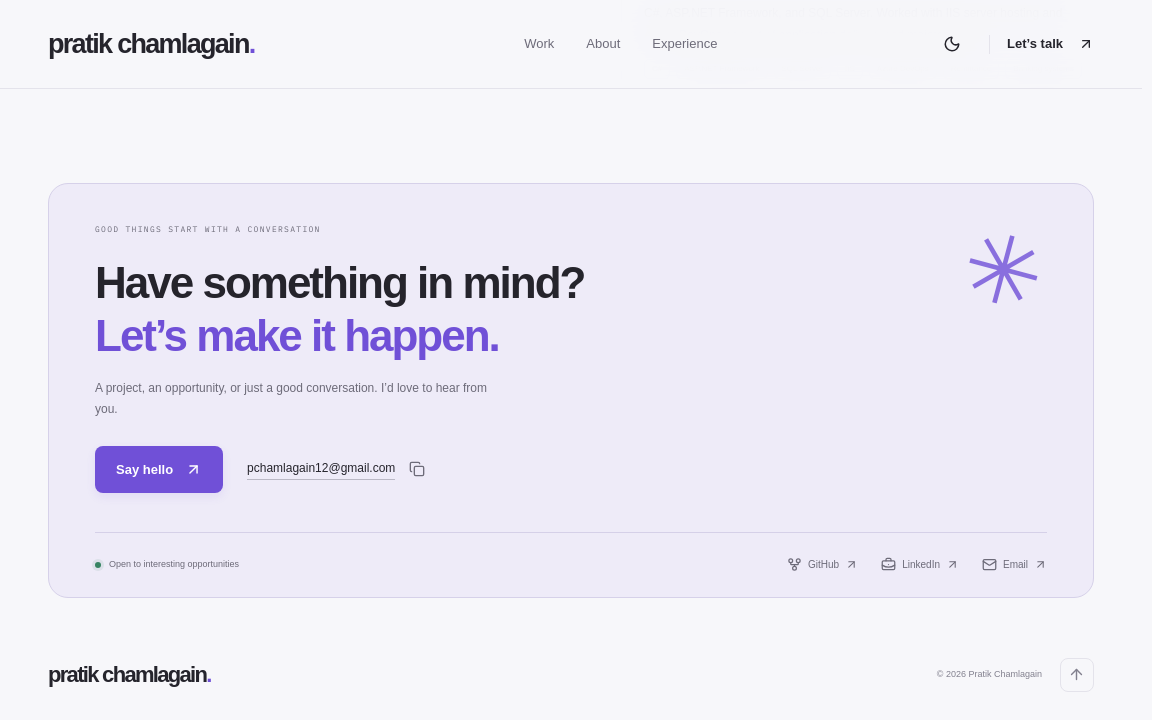
Test: portfolio interactions › reports both clipboard success and a useful failure state
The image size is (1152, 720).
(page scrolled)
Click the button named "Copy email address".
click(417, 469)  # box 401,453 -> 433,485
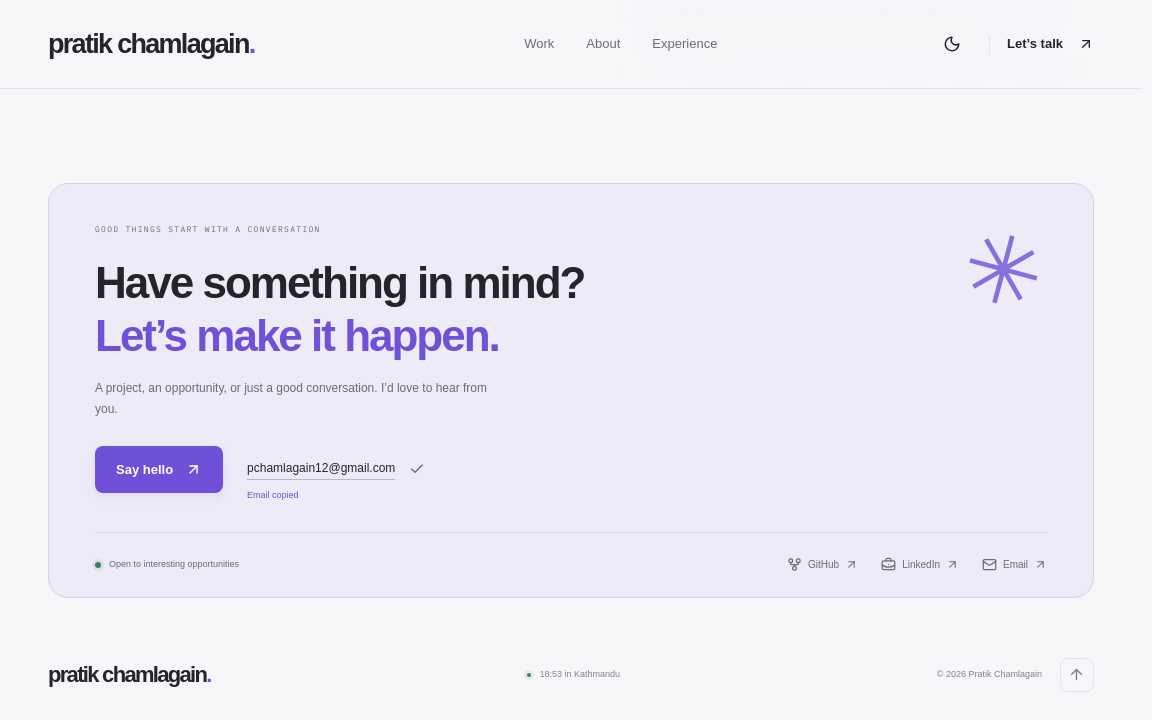
Check: the text "Email copied" is shown, box 247,488 -> 299,503
